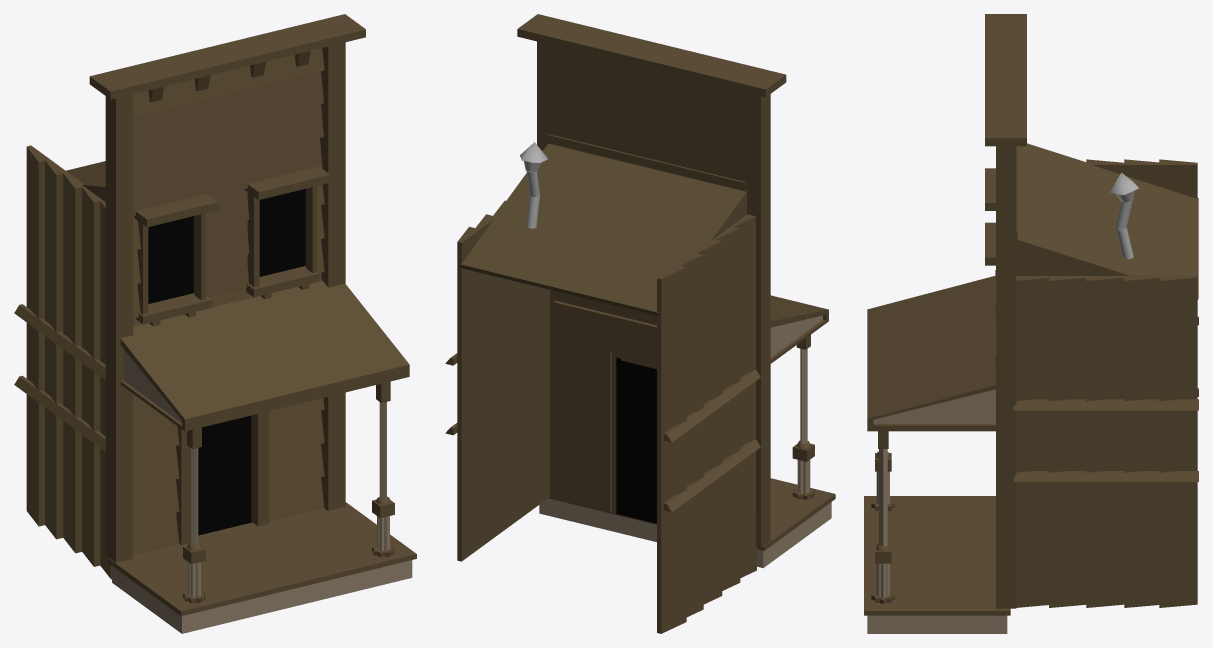
The model's file is SM_Building02.fbx.
3 views of the same model, side by side, from view 1: azimuth 30°, elevation 25°; view 2: azimuth 150°, elevation 25°; view 3: azimuth 270°, elevation 25° (orthographic). The views are drawn at different scales.
Parts seen in each view (by area): view 1: Building02; view 2: Building02; view 3: Building02.
Part boxes in pixels (bbox=[...]): Building02: bbox=[14, 14, 416, 633]; Building02: bbox=[445, 14, 835, 633]; Building02: bbox=[864, 14, 1198, 633].
Size of the model in its own units: 472 by 887 by 536.
